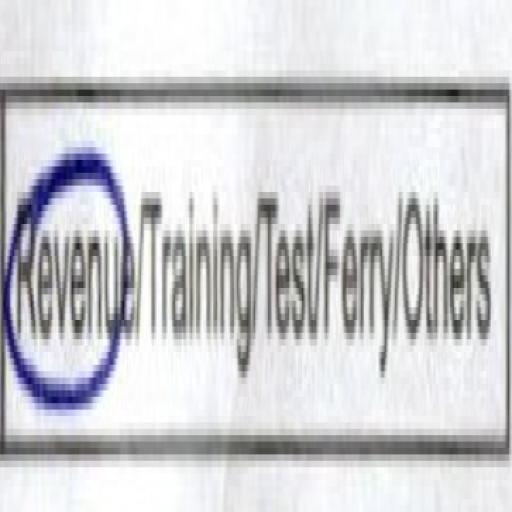check: (1, 9, 138, 512)
